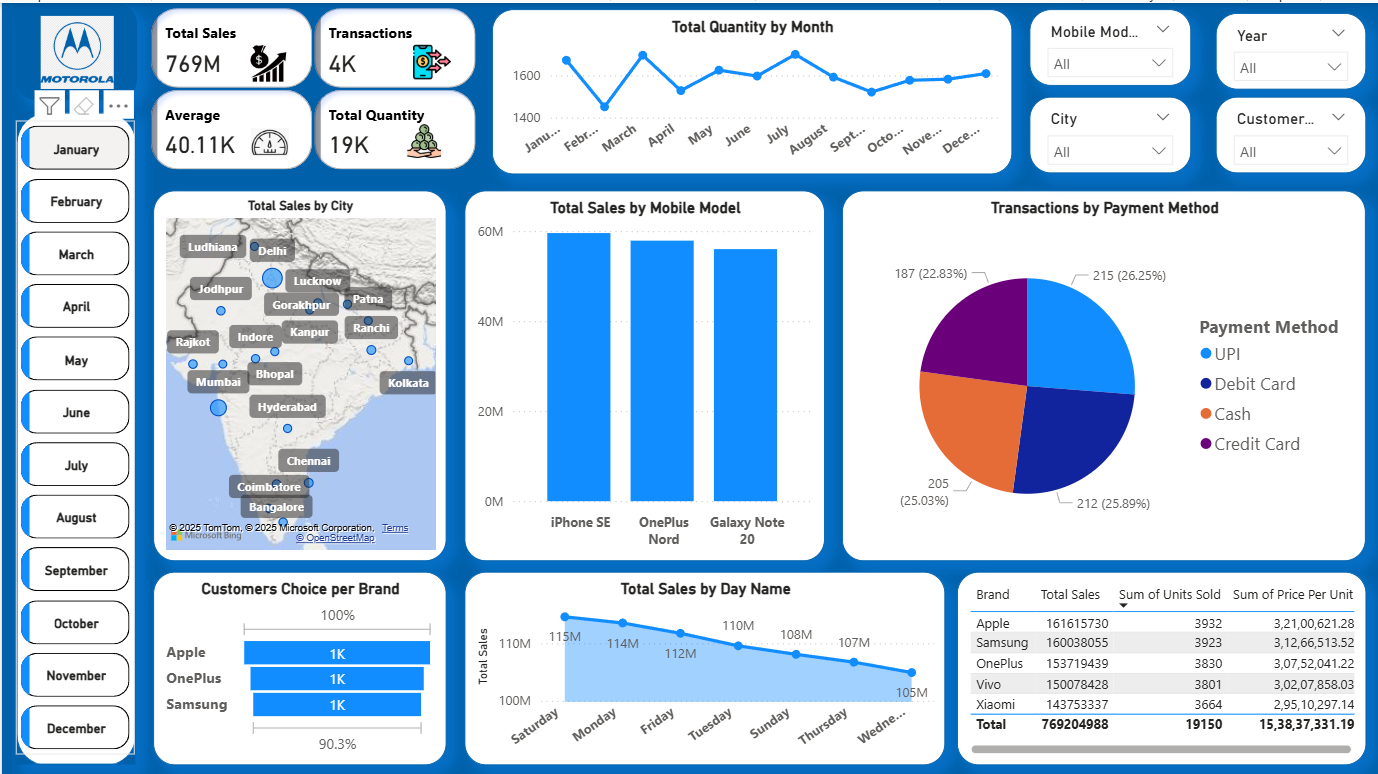

Layout of this report page (visuals, bound fields, positions):
{"tool":"powerbi","page":{"name":"Page 1","canvas":[1280,720],"ordinal":0},"visuals":[{"type":"image","box":[12.5,0,112.5,90],"z":0},{"type":"shape","box":[12.5,101.2,111.2,607.5],"z":1000},{"type":"cardVisual","fields":{"Data":["Sales_Data.Total Sales","Sales_Data.Transactions","Sales_Data.Average","Sales_Data.Total Quantity"]},"box":[133.8,0,312.5,160],"z":2000},{"type":"image","box":[361.2,32.5,77.5,45],"z":3000},{"type":"image","box":[226.2,108.8,45,41.2],"z":4000},{"type":"image","box":[361.2,107.5,62.5,43.8],"z":5000},{"type":"image","box":[206.2,32.5,83.8,47.5],"z":6000},{"type":"map","fields":{"Category":["Sales_Data.City"],"Size":["Sales_Data.Total Sales"]},"box":[141.2,175,272.5,345],"z":7000},{"type":"advancedSlicerVisual","fields":{"Values":["Sales_Data.Date.Variation.Date Hierarchy.Month"]},"box":[12.5,108.8,111.2,590],"z":8000},{"type":"lineChart","fields":{"Category":["Sales_Data.Date.Variation.Date Hierarchy.Month","Sales_Data.Date.Variation.Date Hierarchy.Day"],"Y":["Sales_Data.Total Quantity"]},"box":[456.2,6.2,483.8,153.8],"z":9000},{"type":"columnChart","fields":{"Y":["Sales_Data.Total Sales"],"Category":["Sales_Data.Mobile Model"]},"box":[430,175,335,345],"z":10000},{"type":"pieChart","fields":{"Category":["Sales_Data.Payment Method"],"Y":["Sales_Data.Transactions"]},"box":[781.2,175,487.5,345],"z":11000},{"type":"funnel","title":"Customers Choice per Brand","fields":{"Y":["Sum(Sales_Data.Customer Ratings)"],"Category":["Sales_Data.Brand"]},"box":[141.2,528.8,272.5,180],"z":12000},{"type":"areaChart","fields":{"Category":["Sales_Data.Day Name"],"Y":["Sales_Data.Total Sales"]},"box":[430,528.8,447.5,180],"z":13000},{"type":"tableEx","fields":{"Values":["Sales_Data.Brand","Sales_Data.Total Sales","Sum(Sales_Data.Units Sold)","Sum(Sales_Data.Price Per Unit)"]},"box":[888,529,381,180],"z":14000},{"type":"slicer","fields":{"Values":["Sales_Data.Mobile Model"]},"box":[956.2,6.2,150,71.2],"z":15000},{"type":"slicer","fields":{"Values":["Sales_Data.Date.Variation.Date Hierarchy.Year"]},"box":[1128.8,8.8,140,71.2],"z":16000},{"type":"slicer","fields":{"Values":["Sales_Data.City"]},"box":[956.2,87.5,150,71.2],"z":17000},{"type":"slicer","fields":{"Values":["Sales_Data.Customer Ratings","Sales_Data.Payment Method"]},"box":[1128.8,87.5,140,71.2],"z":18000}]}

Visuals, with their boxes in screenshot pixels (x1, y1, x2, y2), scaled from the page's 1280x720 canvas onto the 1378x774 screenshot:
image: region(13, 0, 135, 97)
shape: region(13, 109, 133, 762)
cardVisual - Sales_Data.Total Sales x Sales_Data.Transactions: region(144, 0, 480, 172)
image: region(389, 35, 472, 83)
image: region(244, 117, 292, 161)
image: region(389, 116, 456, 163)
image: region(222, 35, 312, 86)
map - Sales_Data.City x Sales_Data.Total Sales: region(152, 188, 445, 559)
advancedSlicerVisual - Sales_Data.Date.Variation.Date Hierarchy.Month: region(13, 117, 133, 751)
lineChart - Sales_Data.Date.Variation.Date Hierarchy.Month x Sales_Data.Date.Variation.Date Hierarchy.Day: region(491, 7, 1012, 172)
columnChart - Sales_Data.Total Sales x Sales_Data.Mobile Model: region(463, 188, 824, 559)
pieChart - Sales_Data.Payment Method x Sales_Data.Transactions: region(841, 188, 1366, 559)
"Customers Choice per Brand" funnel: region(152, 568, 445, 762)
areaChart - Sales_Data.Day Name x Sales_Data.Total Sales: region(463, 568, 945, 762)
tableEx - Sales_Data.Brand x Sales_Data.Total Sales: region(956, 569, 1366, 762)
slicer - Sales_Data.Mobile Model: region(1029, 7, 1191, 83)
slicer - Sales_Data.Date.Variation.Date Hierarchy.Year: region(1215, 9, 1366, 86)
slicer - Sales_Data.City: region(1029, 94, 1191, 171)
slicer - Sales_Data.Customer Ratings x Sales_Data.Payment Method: region(1215, 94, 1366, 171)
